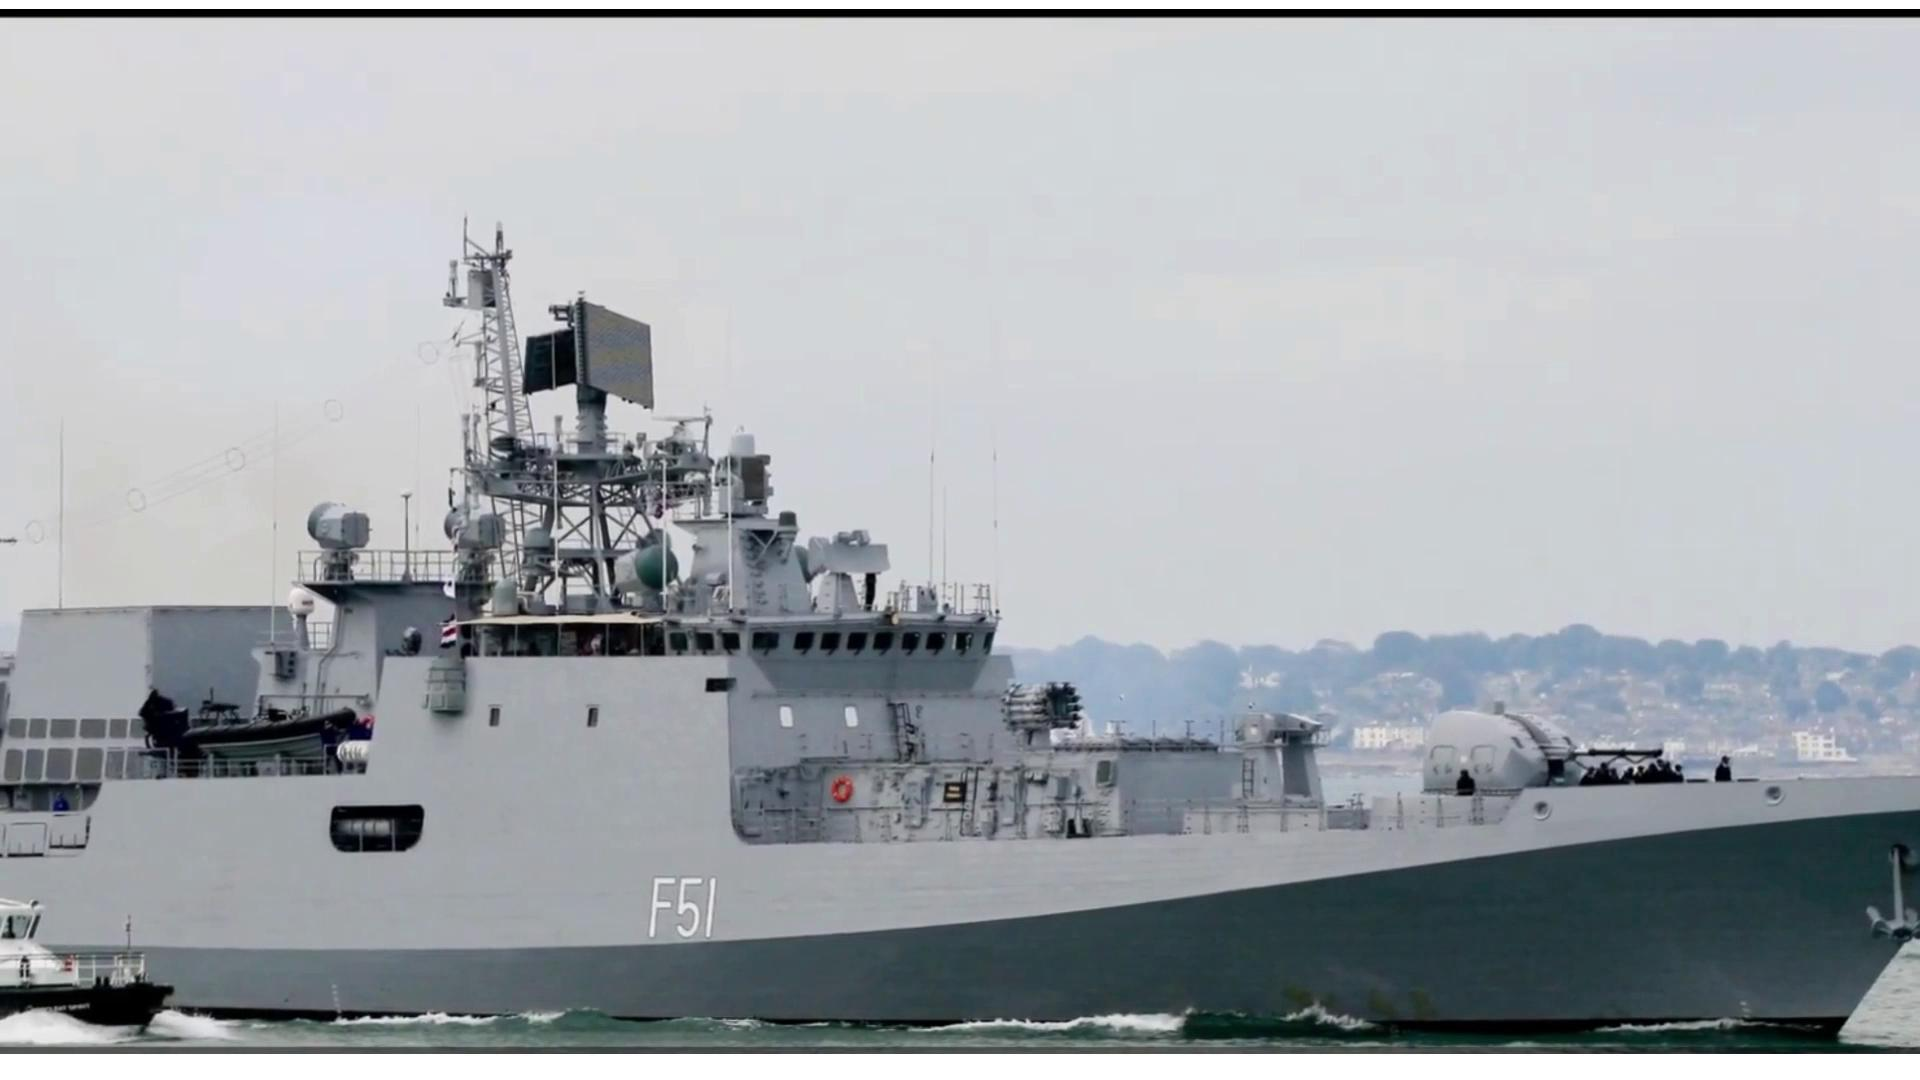OCR: (637, 864, 738, 952)
